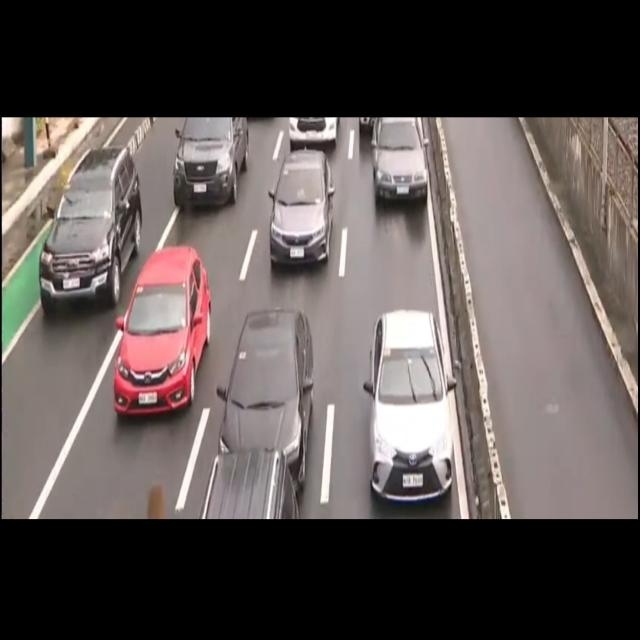SUV: (112, 247, 218, 418), (41, 145, 143, 311), (188, 443, 311, 519), (167, 119, 249, 194)
Sedan: (217, 296, 321, 489), (360, 301, 457, 505), (361, 119, 436, 214), (269, 156, 334, 265)
